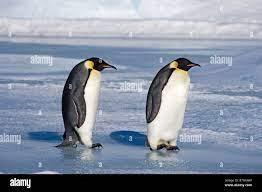emporer: (57, 48, 117, 166), (143, 49, 206, 154)
